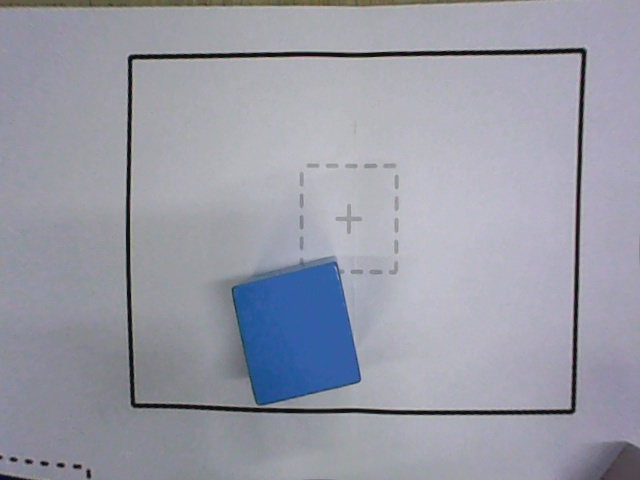upside of big cube: (231, 262, 361, 406)
